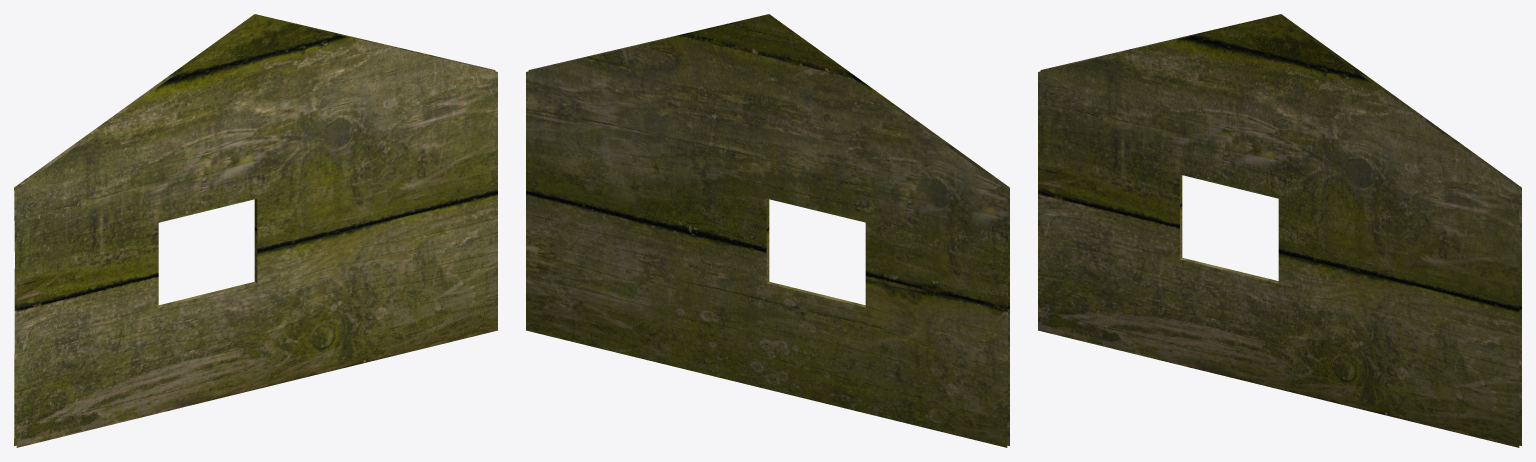
File: SM_Back_Wall.fbx
The picture shows the model from 3 angles, left to right: view 1: azimuth 30°, elevation 25°; view 2: azimuth 150°, elevation 25°; view 3: azimuth 330°, elevation 25°; orthographic projection.
Visible parts, largest first — view 1: SM_Back_Wall; view 2: SM_Back_Wall; view 3: SM_Back_Wall.
Part boxes in pixels (bbox=[...]): SM_Back_Wall: bbox=[14, 14, 497, 447]; SM_Back_Wall: bbox=[526, 14, 1009, 447]; SM_Back_Wall: bbox=[1038, 14, 1521, 447].
Size of what is drawn, in the model's own units: 5 by 561 by 416.
